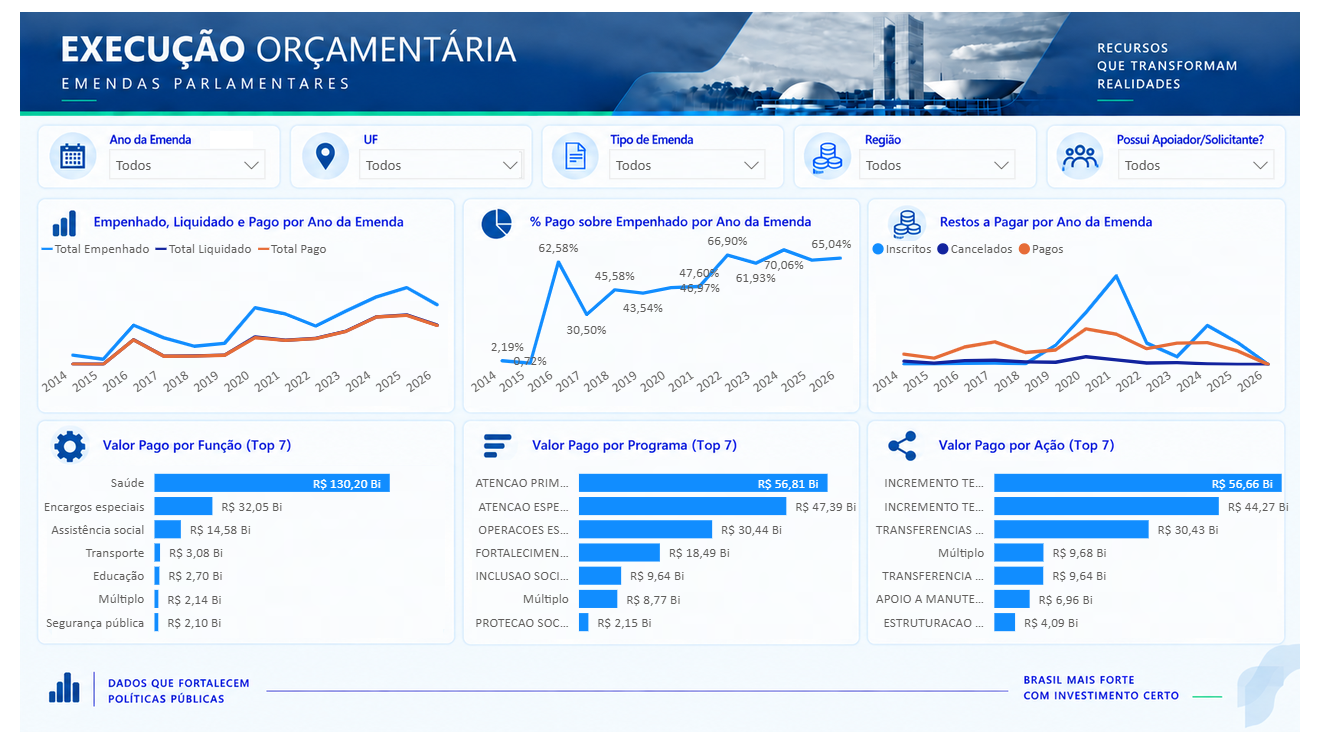

Layout of this report page (visuals, bound fields, positions):
{"tool":"powerbi","page":{"name":"Execução Orçamentária","canvas":[1280,720],"ordinal":4},"visuals":[{"type":"slicer","fields":{"Values":["EmendasParlamentares.Região"]},"box":[824,152,160,40],"z":0},{"type":"slicer","fields":{"Values":["EmendasParlamentares.UF"]},"box":[376,152,168,40],"z":1},{"type":"slicer","fields":{"Values":["EmendasParlamentares.Tipo de Emenda"]},"box":[600,152,160,40],"z":2},{"type":"slicer","fields":{"Values":["EmendasParlamentares.Possui Apoiador/Solicitante? "]},"box":[1056,152,160,40],"z":3},{"type":"slicer","fields":{"Values":["EmendasParlamentares.Ano da Emenda"]},"box":[152,152,160,40],"z":4},{"type":"lineChart","fields":{"Category":["EmendasParlamentares.Ano da Emenda"],"Y":["EmendasParlamentares.Total Empenhado","EmendasParlamentares.Total Liquidado","EmendasParlamentares.Total Pago"]},"box":[96,232,376,168],"z":5},{"type":"lineChart","fields":{"Category":["EmendasParlamentares.Ano da Emenda"],"Y":["EmendasParlamentares.% Pago sobre Empenhado"]},"box":[480,224,352,176],"z":6},{"type":"lineChart","fields":{"Category":["EmendasParlamentares.Ano da Emenda"],"Y":["Sum(EmendasParlamentares.Valor Restos A Pagar Inscritos)","Sum(EmendasParlamentares.Valor Restos A Pagar Cancelados)","Sum(EmendasParlamentares.Valor Restos A Pagar Pagos)"]},"box":[840,232,376,168],"z":7},{"type":"barChart","fields":{"Category":["EmendasParlamentares.Nome Função"],"Y":["EmendasParlamentares.Total Pago"]},"box":[96,432,384,176],"z":8},{"type":"barChart","fields":{"Y":["EmendasParlamentares.Total Pago"],"Category":["EmendasParlamentares.Nome Programa"]},"box":[472,432,392,176],"z":9},{"type":"barChart","fields":{"Y":["EmendasParlamentares.Total Pago"],"Category":["EmendasParlamentares.Nome Ação"]},"box":[832,432,440,176],"z":10}]}

Visuals, with their boxes in screenshot pixels (x1, y1, x2, y2), scaled from the page's 1280x720 canvas onto the 1317x747 screenshot:
slicer - EmendasParlamentares.Região: [848,158,1012,199]
slicer - EmendasParlamentares.UF: [387,158,560,199]
slicer - EmendasParlamentares.Tipo de Emenda: [617,158,782,199]
slicer - EmendasParlamentares.Possui Apoiador/Solicitante? : [1087,158,1251,199]
slicer - EmendasParlamentares.Ano da Emenda: [156,158,321,199]
lineChart - EmendasParlamentares.Ano da Emenda x EmendasParlamentares.Total Empenhado: [99,241,486,415]
lineChart - EmendasParlamentares.Ano da Emenda x EmendasParlamentares.% Pago sobre Empenhado: [494,232,856,415]
lineChart - EmendasParlamentares.Ano da Emenda x Sum(EmendasParlamentares.Valor Restos A Pagar Inscritos): [864,241,1251,415]
barChart - EmendasParlamentares.Nome Função x EmendasParlamentares.Total Pago: [99,448,494,631]
barChart - EmendasParlamentares.Total Pago x EmendasParlamentares.Nome Programa: [486,448,889,631]
barChart - EmendasParlamentares.Total Pago x EmendasParlamentares.Nome Ação: [856,448,1309,631]
